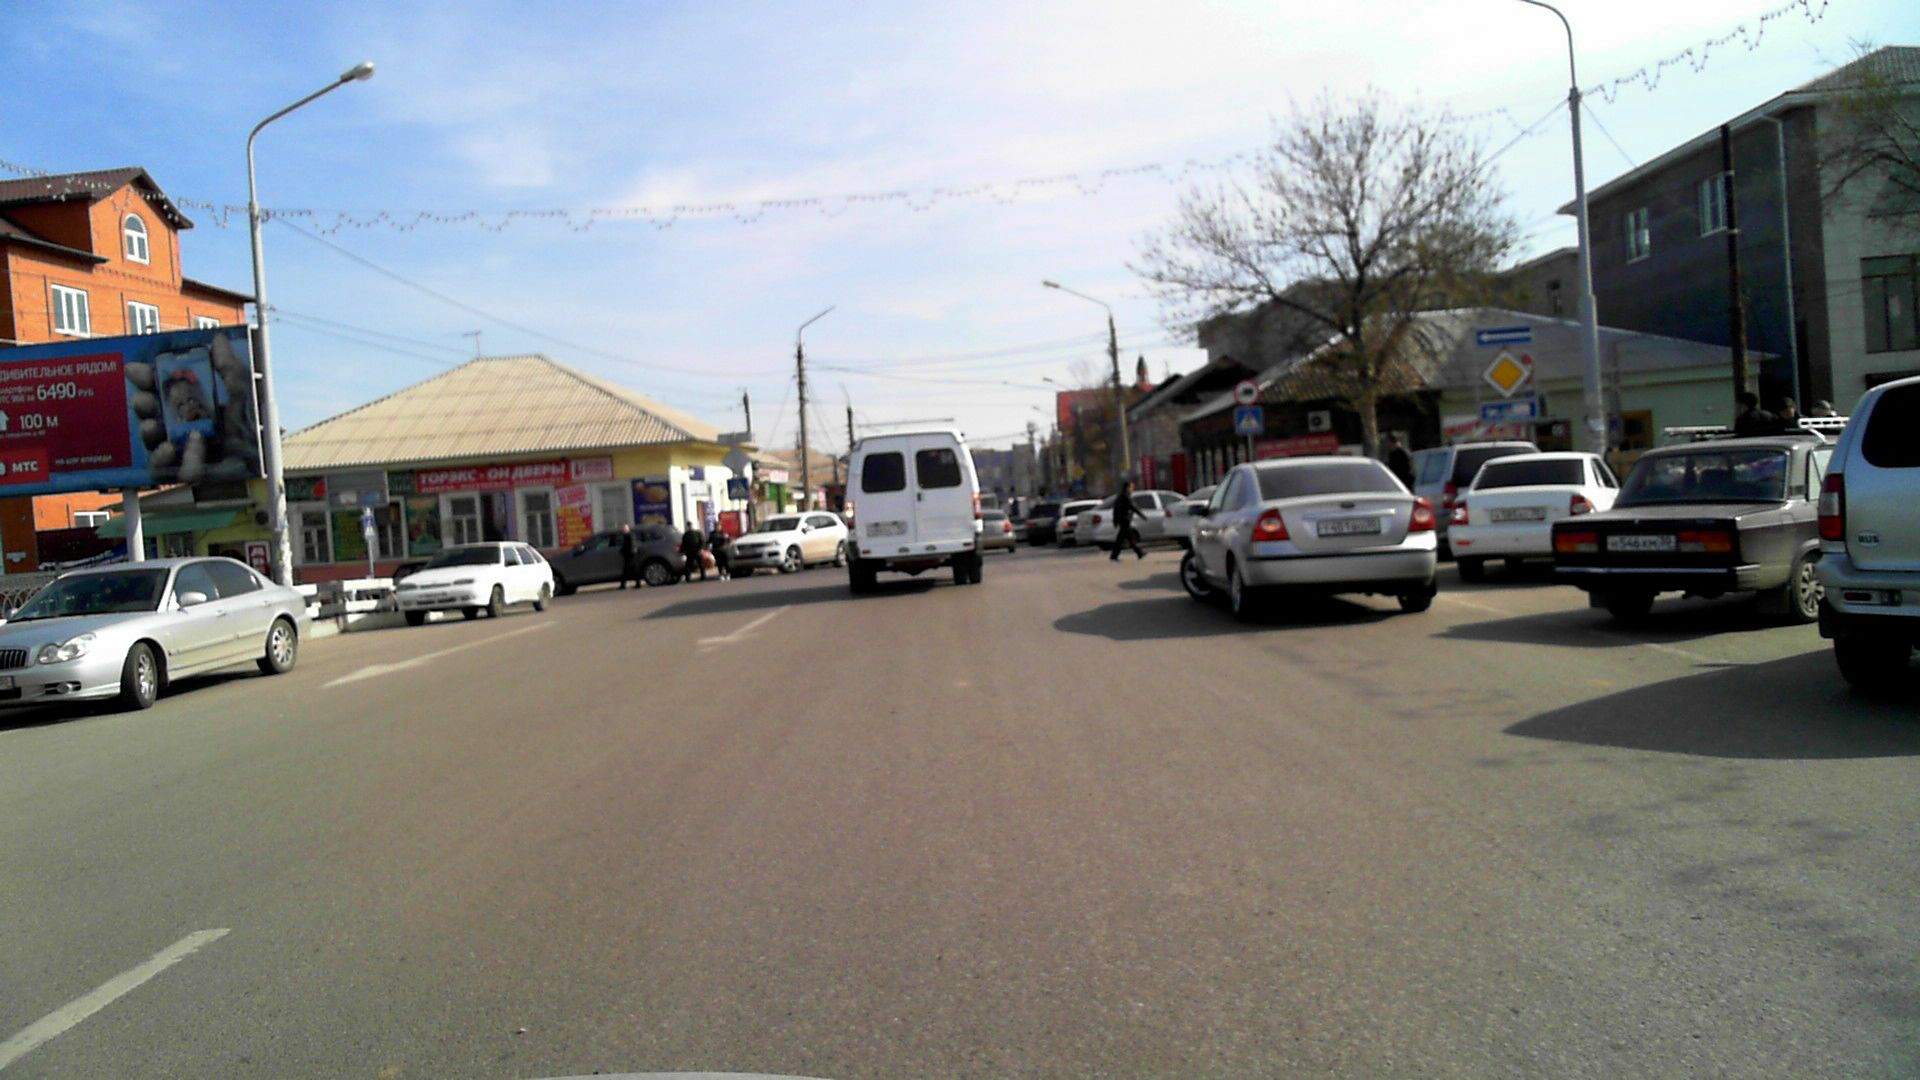One-Way Traffic: (1476, 326, 1534, 345)
